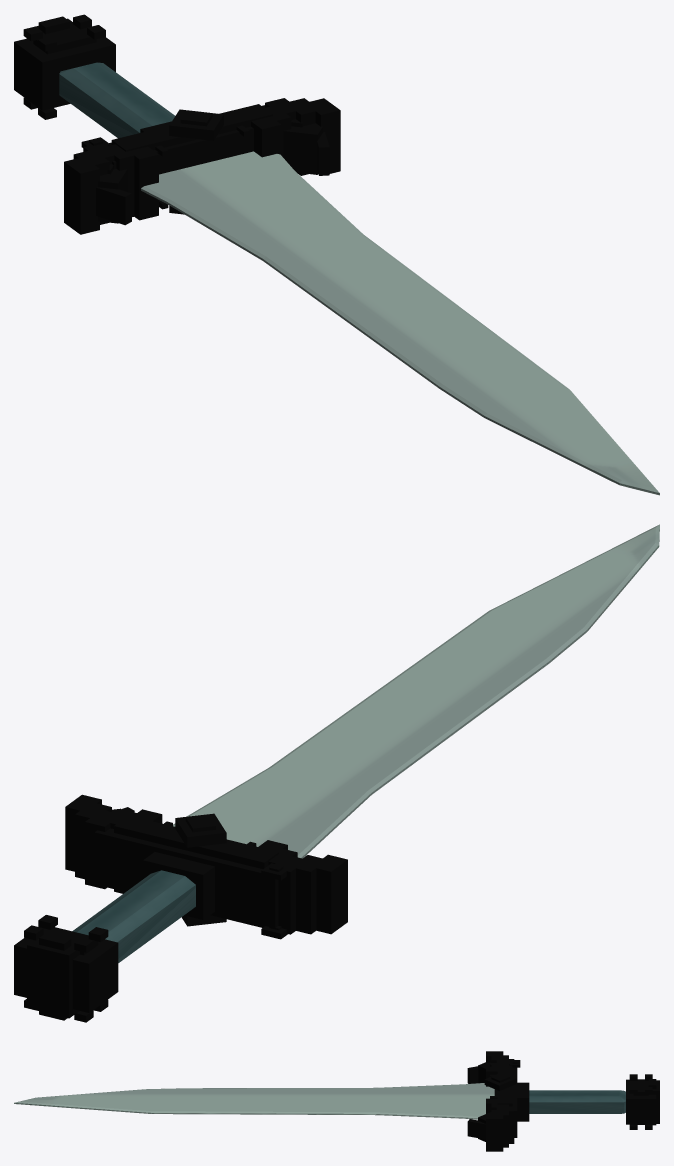
The model's file is cloudridge_jian.obj.
3 renders of one model, top to bottom at view 1: azimuth 30°, elevation 25°; view 2: azimuth 150°, elevation 25°; view 3: azimuth 270°, elevation 25°, orthographic. The views are drawn at different scales.
Parts seen in each view (by area): view 1: cloudridge_jian; view 2: cloudridge_jian; view 3: cloudridge_jian.
Boxes of the visible parts, left/top/right/bottom form: cloudridge_jian: left=14, top=14, right=659, bottom=495; cloudridge_jian: left=14, top=524, right=659, bottom=1022; cloudridge_jian: left=14, top=1051, right=659, bottom=1151.
Bounding box in the file's own units: 0.3312 × 0.115 × 1.34.
